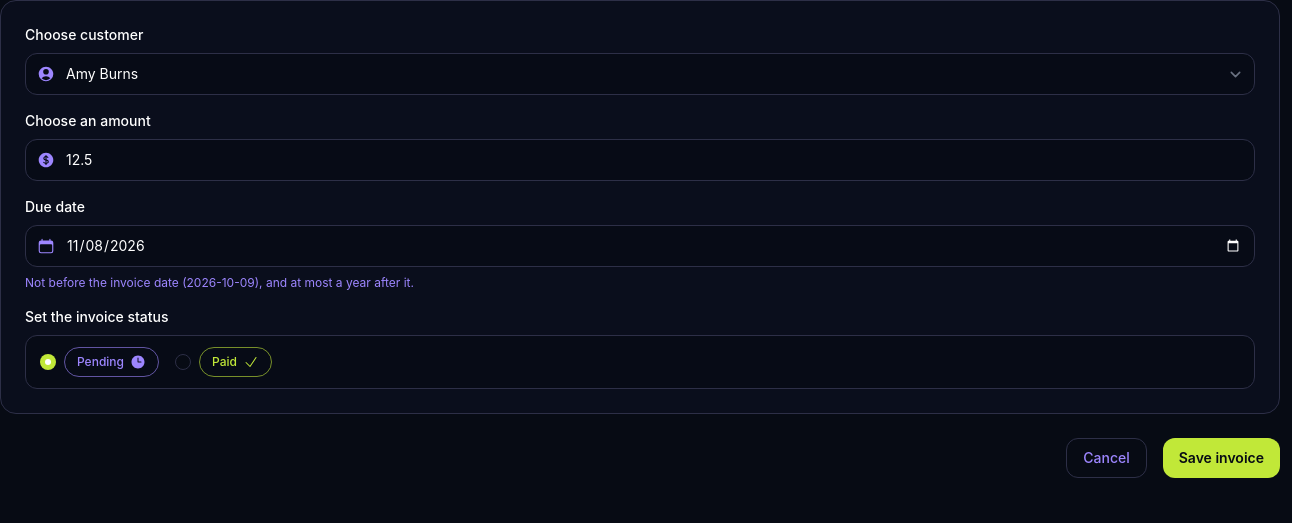
Test: the invoice edit form › says so beside the customer when the one chosen is no longer the user’s
Click the button "Save invoice" at (1221, 458), box 1163,438 -> 1280,478
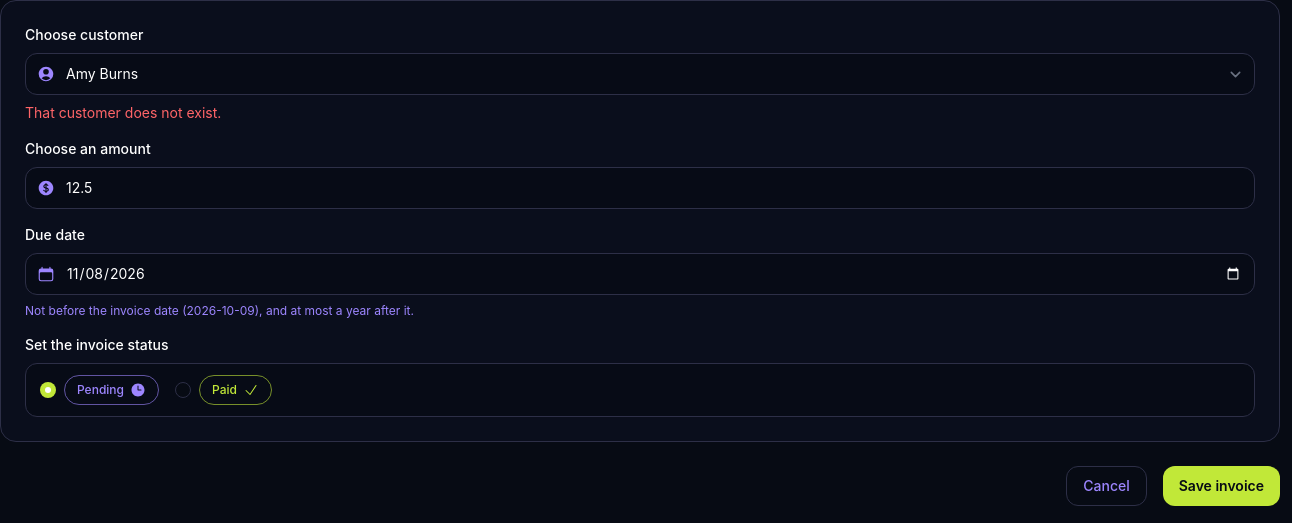
Now the element with id "customer-error" is shown, box 25,104 -> 221,121
